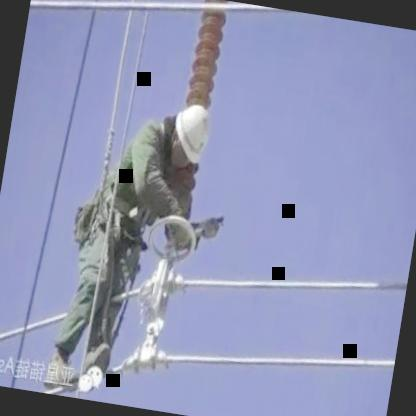helmet: (160, 96, 216, 176)
